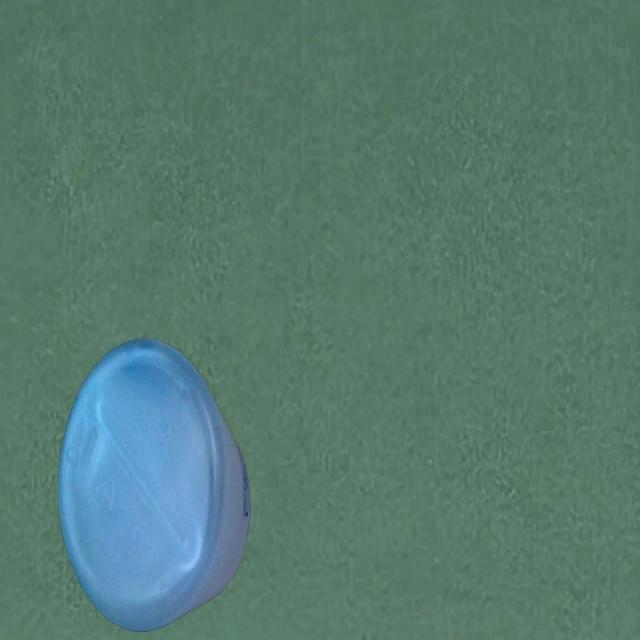bottle: (58, 332, 254, 630)
